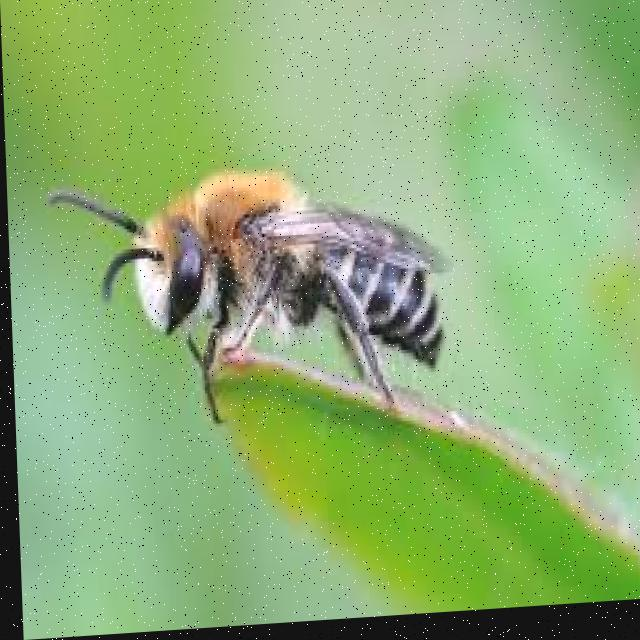Apis-mellifera-scutellata: (31, 123, 457, 456)
